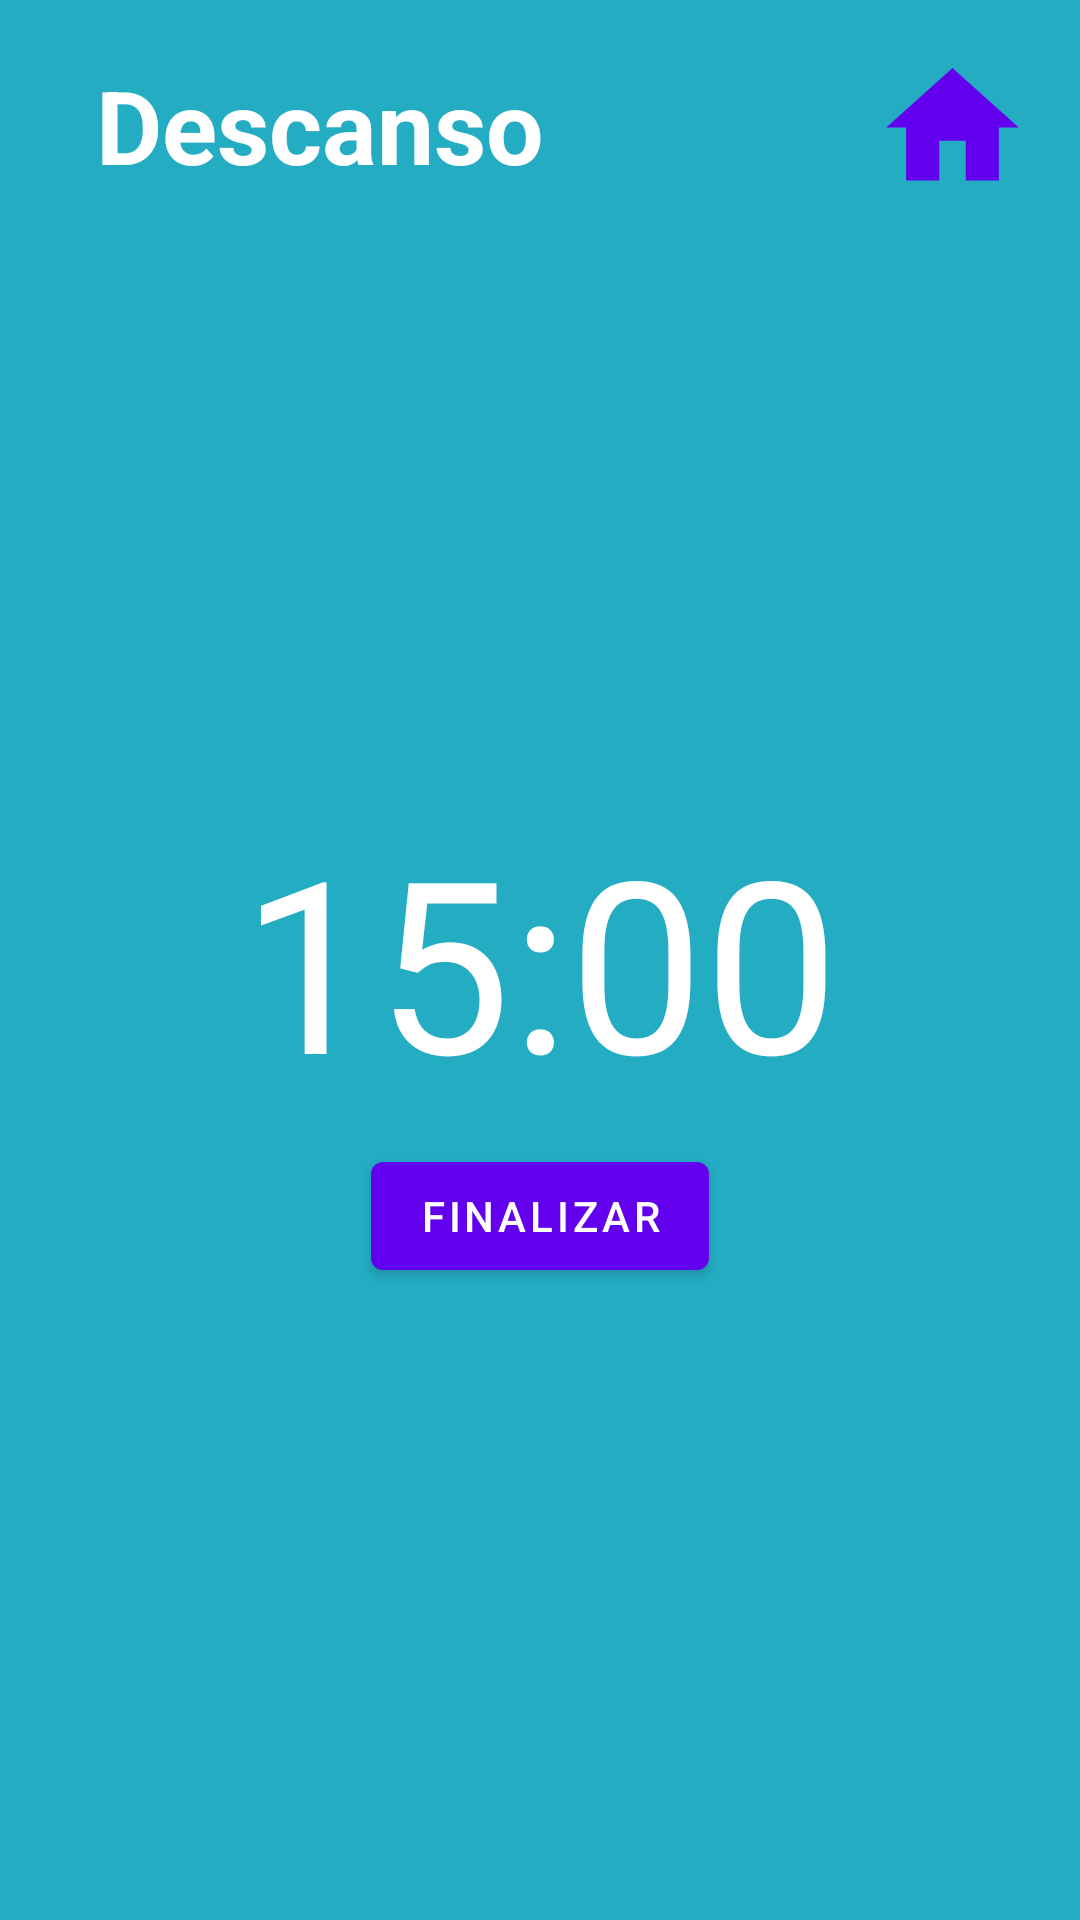

Where to tap for icons on this 1080px x 1920px app screen, as point (x, y):
home: point (952, 124)
